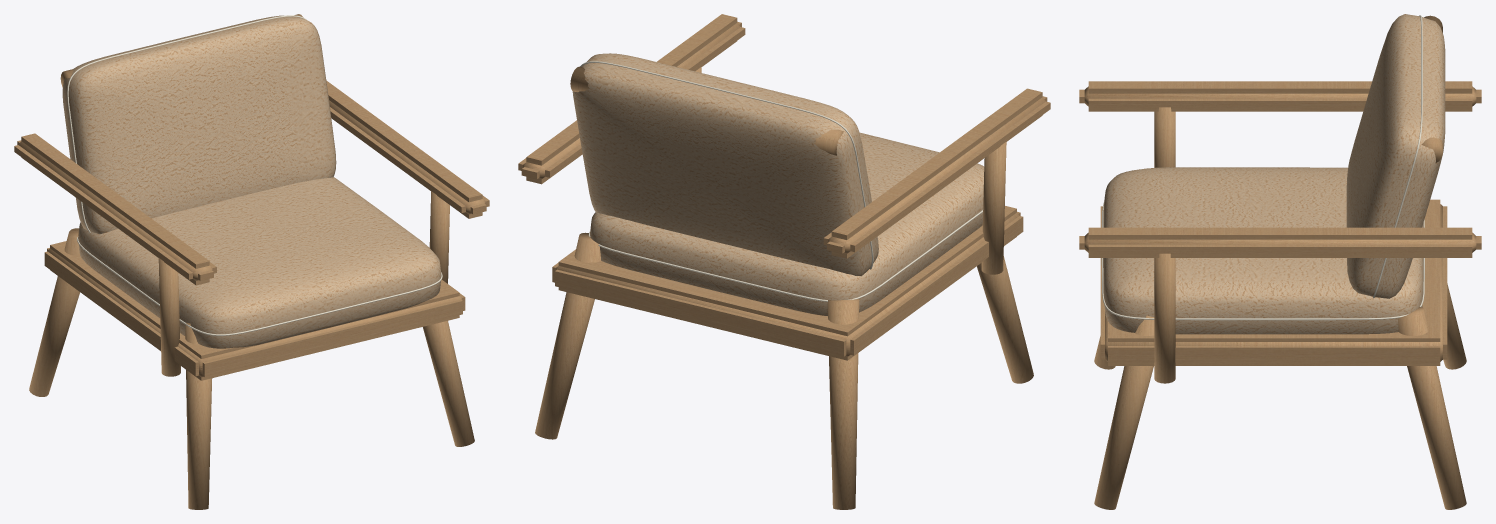
File: scandinavian.armchair.gltf
3 renders of one model, left to right at view 1: azimuth 30°, elevation 25°; view 2: azimuth 150°, elevation 25°; view 3: azimuth 270°, elevation 25°, orthographic. The views are drawn at different scales.
Parts seen in each view (by area): view 1: scandinavian.armchair.splayed-leg; view 2: scandinavian.armchair.splayed-leg; view 3: scandinavian.armchair.splayed-leg.
Boxes of the visible parts, x1,y1,x2,y2 form: scandinavian.armchair.splayed-leg: [14, 14, 489, 509]; scandinavian.armchair.splayed-leg: [518, 14, 1050, 509]; scandinavian.armchair.splayed-leg: [1079, 14, 1481, 509].
Size of the model in its own units: 0.7494 by 0.8007 by 0.7896.
Materials: 3 (2 with a texture image).
